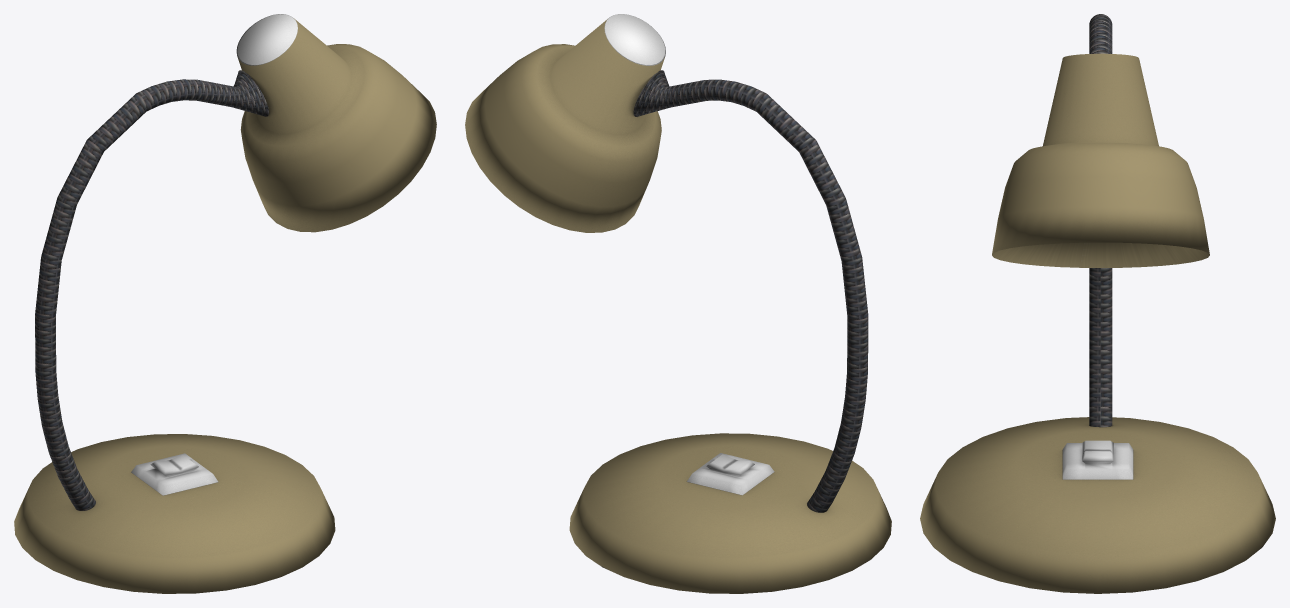
File: Tischlampe.fbx
3 renders of one model, left to right at view 1: azimuth 30°, elevation 25°; view 2: azimuth 150°, elevation 25°; view 3: azimuth 270°, elevation 25°, orthographic. The views are drawn at different scales.
Visible parts, largest first — view 1: DeskLamp; view 2: DeskLamp; view 3: DeskLamp.
Boxes of the visible parts, x1,y1,x2,y2 form: DeskLamp: (14, 14, 436, 593); DeskLamp: (465, 14, 891, 593); DeskLamp: (920, 14, 1275, 593).
Size of the model in its own units: 278 by 328 by 200.
